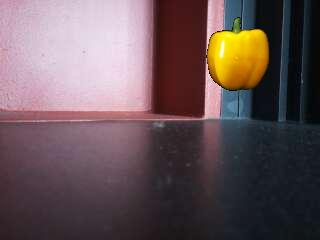Capsicum: (207, 17, 270, 92)
